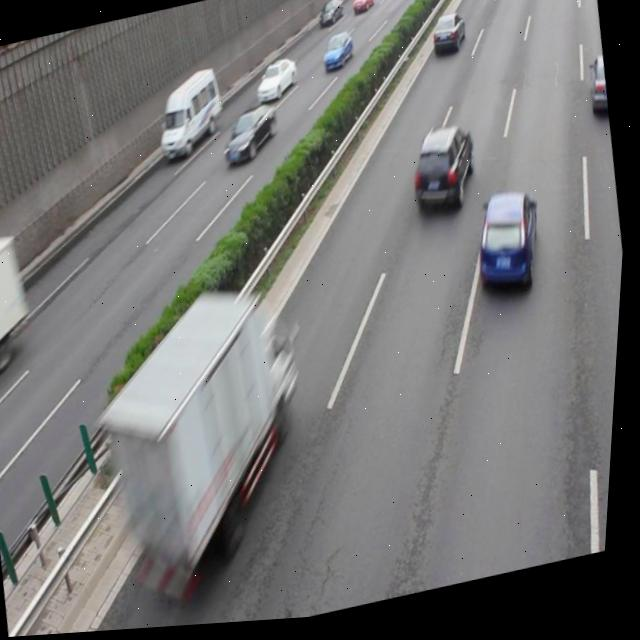bus: (84, 278, 325, 595), (0, 230, 47, 395)
car: (468, 191, 552, 312), (404, 124, 483, 226), (217, 102, 284, 171), (252, 60, 301, 110), (427, 14, 469, 64), (582, 61, 613, 125), (317, 33, 357, 80)
truck: (151, 68, 229, 165)
